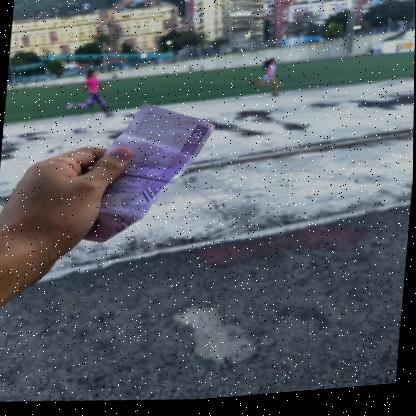one_hundred-back-vef: (79, 95, 219, 254)
